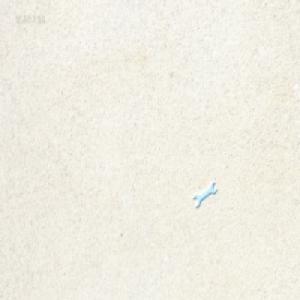Wrench: (192, 177, 216, 204)
